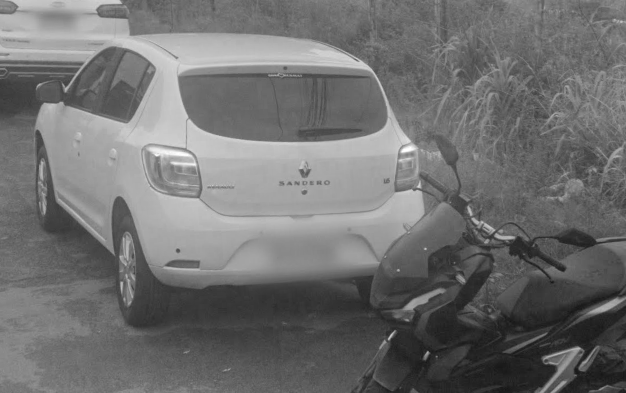car: (27, 24, 403, 343)
